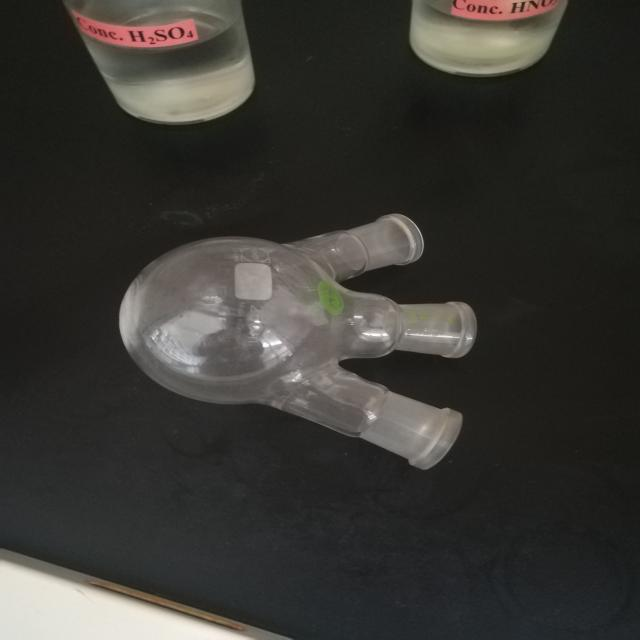Reagent_Bottle: (42, 0, 328, 149), (383, 0, 601, 102)
Round_Bottom_Flask_Borosilicate_Glass_3_Neck: (95, 172, 512, 494)
